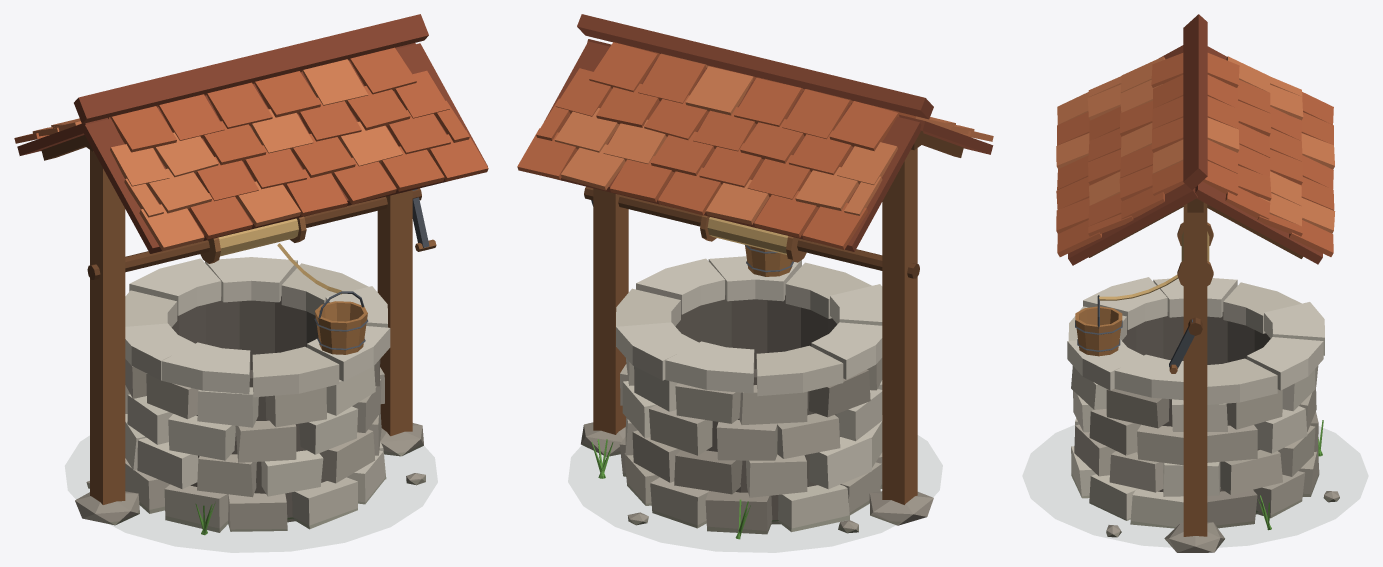
Rendered from well.glb.
The picture shows the model from 3 angles, left to right: view 1: azimuth 30°, elevation 25°; view 2: azimuth 150°, elevation 25°; view 3: azimuth 270°, elevation 25°; orthographic projection. The views are drawn at different scales.
Parts seen in each view (by area): view 1: well; view 2: well; view 3: well.
Boxes of the visible parts, box(x1,y1,x2,y2) form: well: box(14, 14, 488, 535); well: box(517, 14, 993, 539); well: box(1056, 14, 1339, 552).
Size of the model in its own units: 2 by 2.39 by 1.9.
